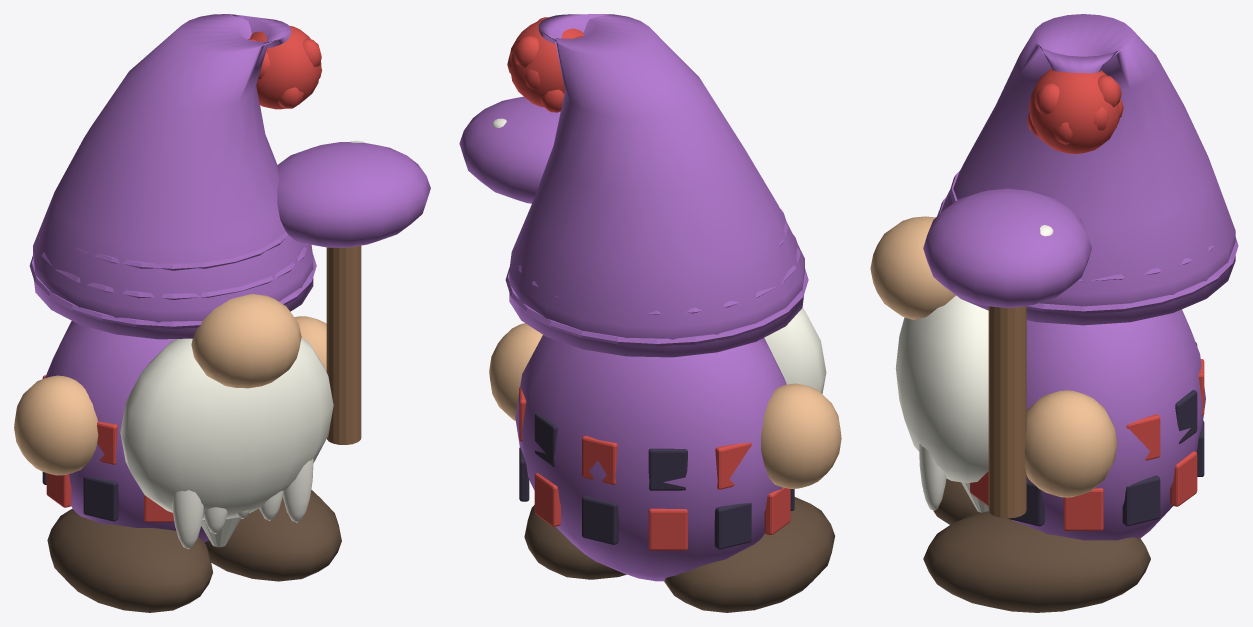
File: gnome-spore.glb
3 views of the same model, side by side, from view 1: azimuth 30°, elevation 25°; view 2: azimuth 150°, elevation 25°; view 3: azimuth 270°, elevation 25° (orthographic). The views are drawn at different scales.
Visible parts, largest first — view 1: gnome-spore; view 2: gnome-spore; view 3: gnome-spore.
Boxes of the visible parts, <box> form: gnome-spore: <box>14,14,430,612</box>; gnome-spore: <box>459,14,841,612</box>; gnome-spore: <box>870,14,1238,612</box>.
Bounding box in the file's own units: 1.11 × 1.46 × 0.872.
